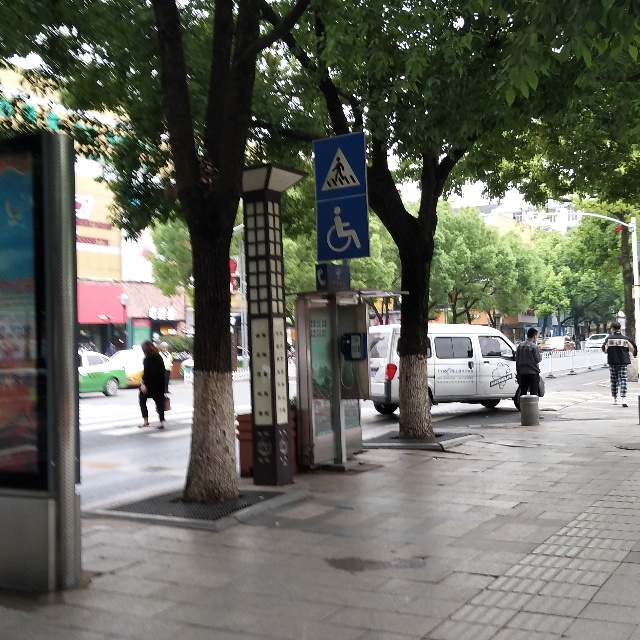crosswalk: (311, 127, 370, 204)
